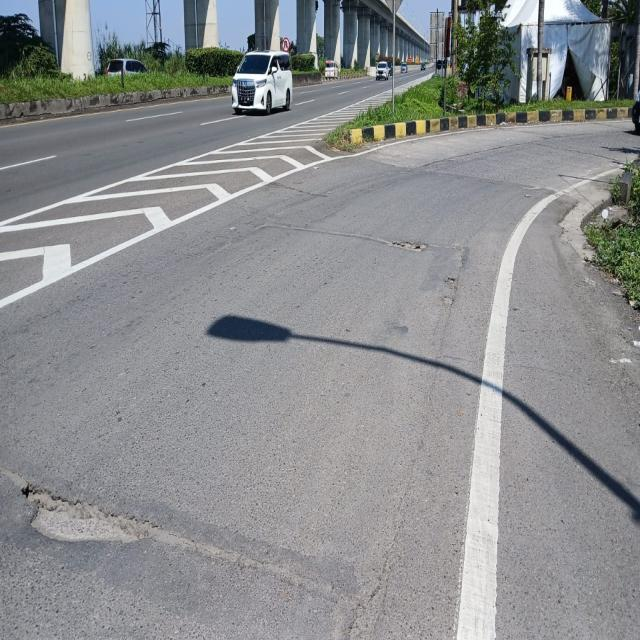Buraco: (18, 481, 164, 547), (384, 238, 431, 254), (440, 271, 460, 290), (438, 294, 457, 307)
